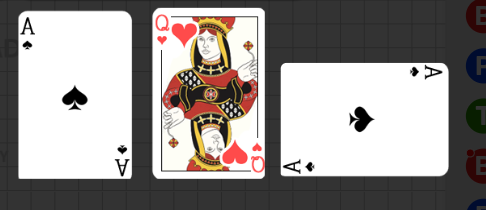AS: (407, 65, 444, 82), (112, 142, 129, 177), (283, 157, 318, 174)
